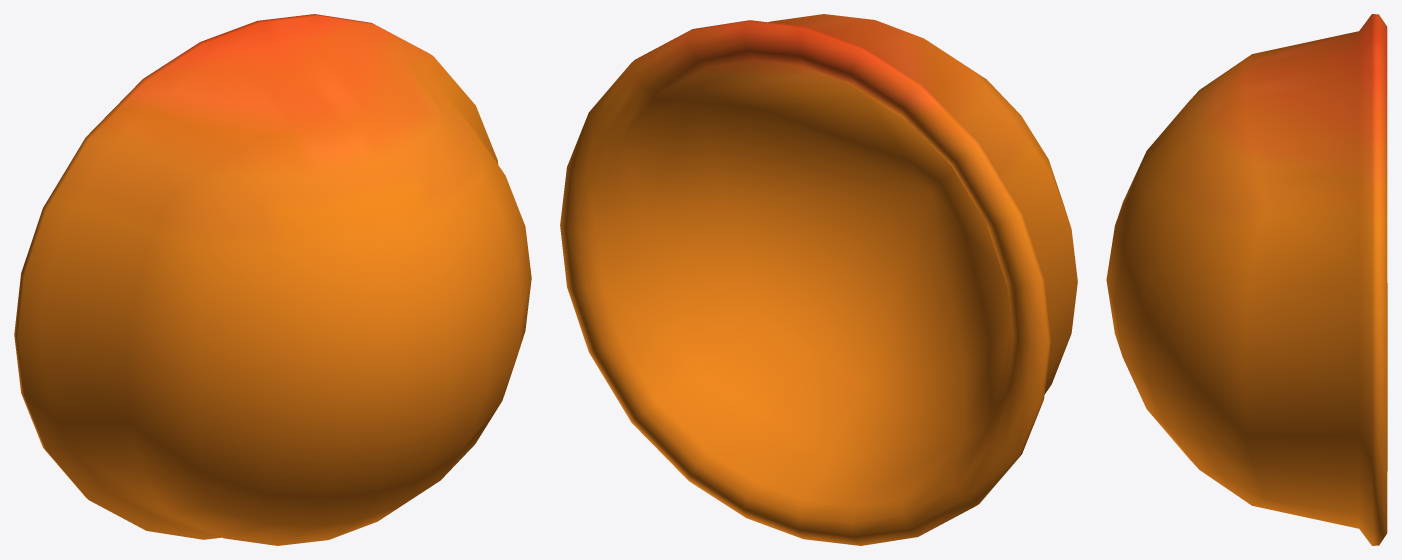
The model's file is Amongus02_Cut_027_0.FBX.
3 renders of one model, left to right at view 1: azimuth 30°, elevation 25°; view 2: azimuth 150°, elevation 25°; view 3: azimuth 270°, elevation 25°, orthographic. The views are drawn at different scales.
Parts seen in each view (by area): view 1: Amongus02_Cut_027_0; view 2: Amongus02_Cut_027_0; view 3: Amongus02_Cut_027_0.
Part boxes in pixels (box(x1,y1,x2,y2)): Amongus02_Cut_027_0: box(14, 14, 531, 545); Amongus02_Cut_027_0: box(560, 14, 1077, 545); Amongus02_Cut_027_0: box(1106, 14, 1387, 545).
Bounding box in the file's own units: 0.7584 × 0.4 × 0.7584.
